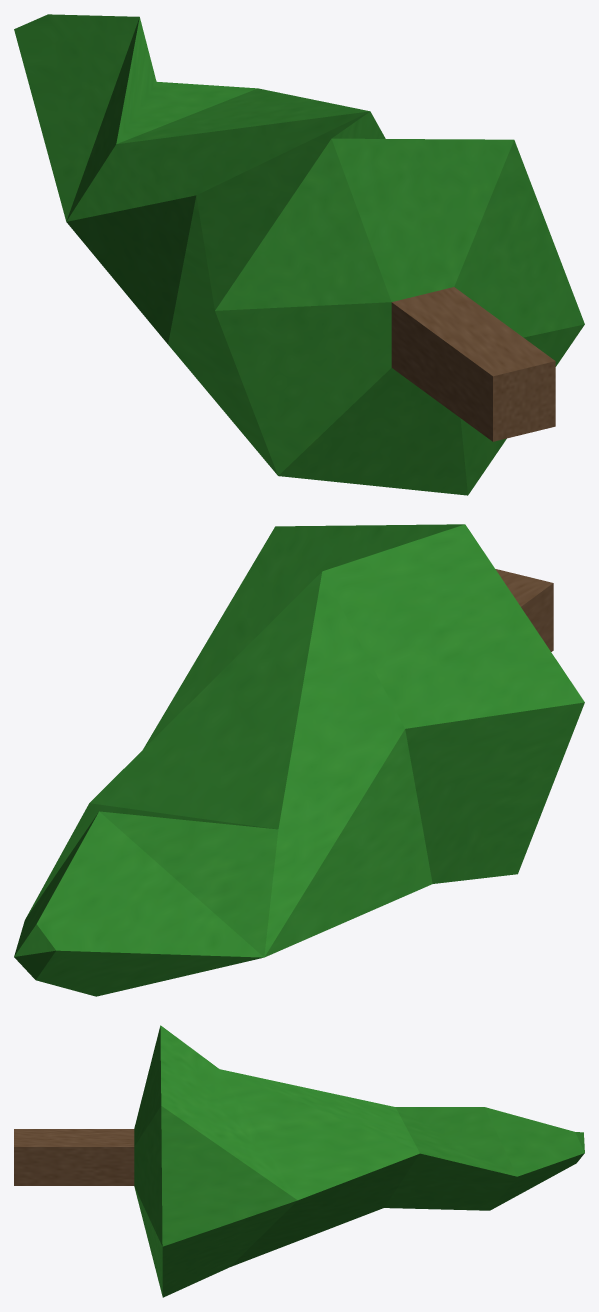
Rendered from all_share_tree_9.FBX.
The picture shows the model from 3 angles, top to bottom: view 1: azimuth 30°, elevation 25°; view 2: azimuth 150°, elevation 25°; view 3: azimuth 270°, elevation 25°; orthographic projection. The views are drawn at different scales.
Parts seen in each view (by area): view 1: tree_10; view 2: tree_10; view 3: tree_10.
Part boxes in pixels (box(x1,y1,x2,y2)): tree_10: box(14, 14, 584, 495); tree_10: box(14, 524, 584, 996); tree_10: box(14, 1025, 584, 1297).
Bounding box in the file's own units: 109 × 110 × 246.
